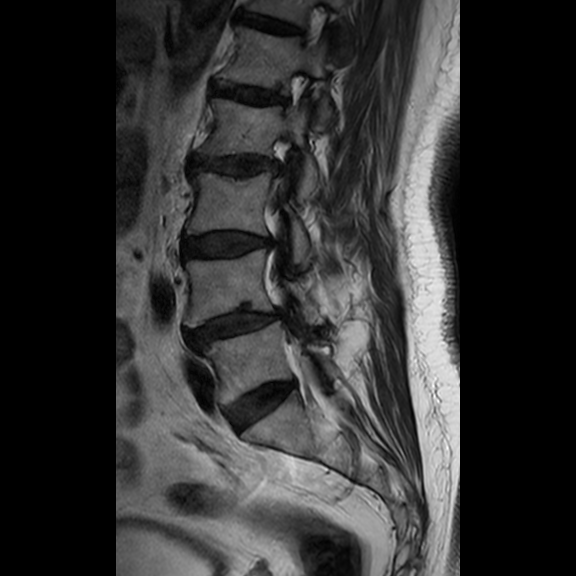LFS0: (265, 61, 319, 126)
